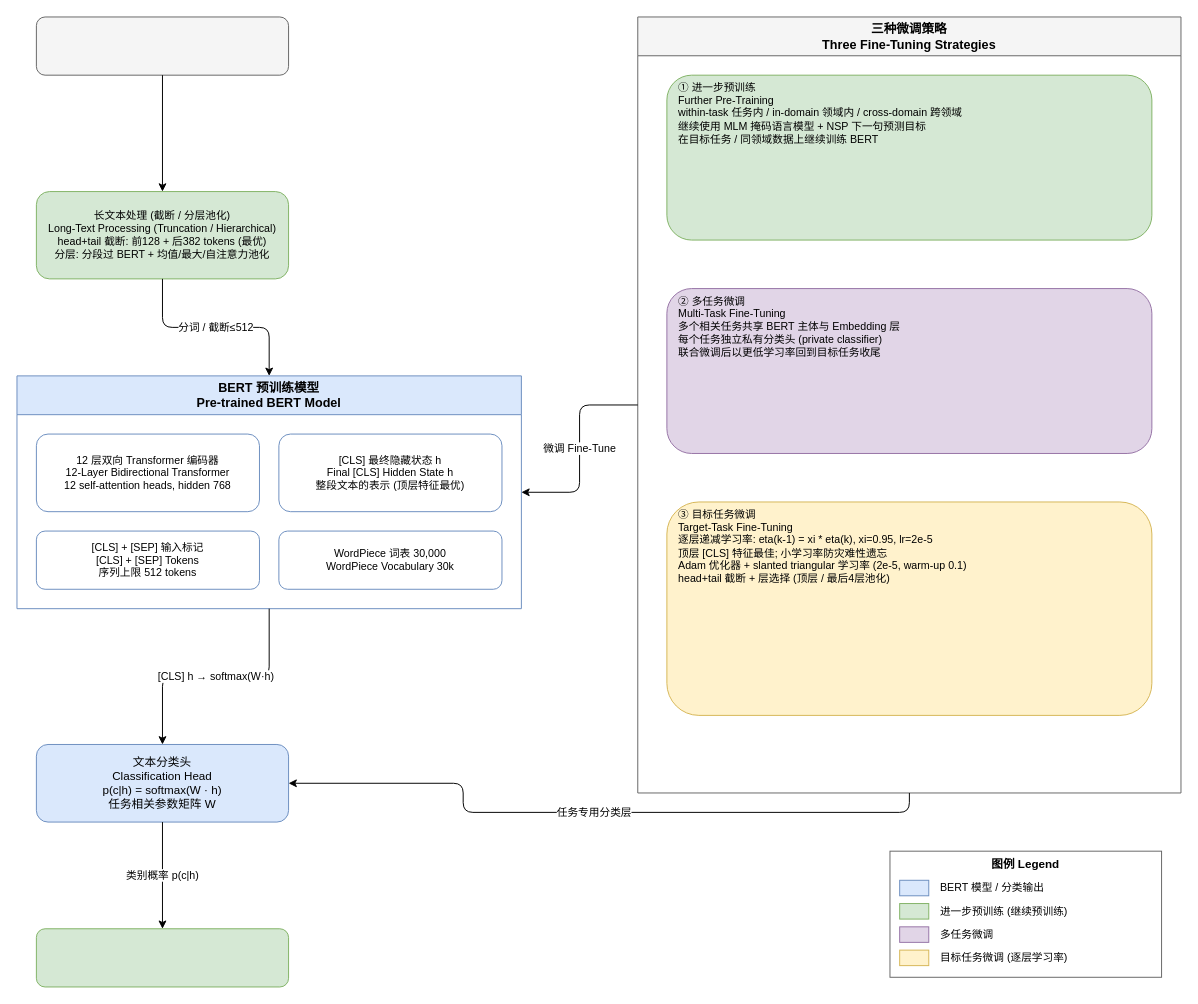
Some shapes in this 1198 by 1004 pixel diagram are drawn without their labels. The centre of each missing label's shape, as x and y in pixels:
"输入文本 Input Text" belongs at [162,45].
"预测标签 Predicted Label" belongs at [162,957].
